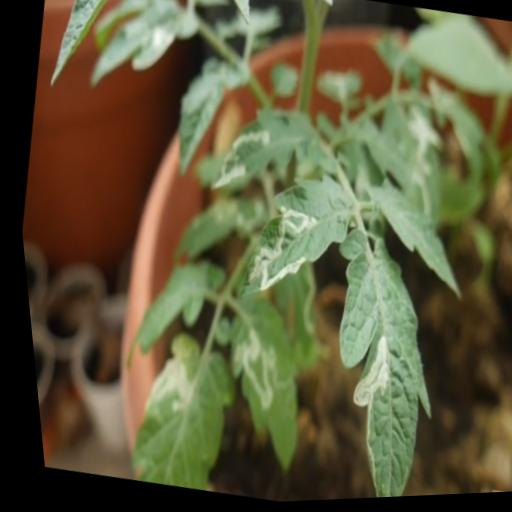Leaf_Miner: (283, 223, 464, 503), (109, 327, 243, 498), (197, 290, 318, 476), (222, 156, 361, 315), (202, 100, 303, 208)
